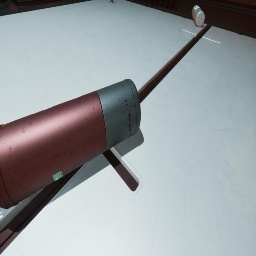0: (192, 5, 205, 27)
NitrogenTank ,: (0, 79, 141, 209)
